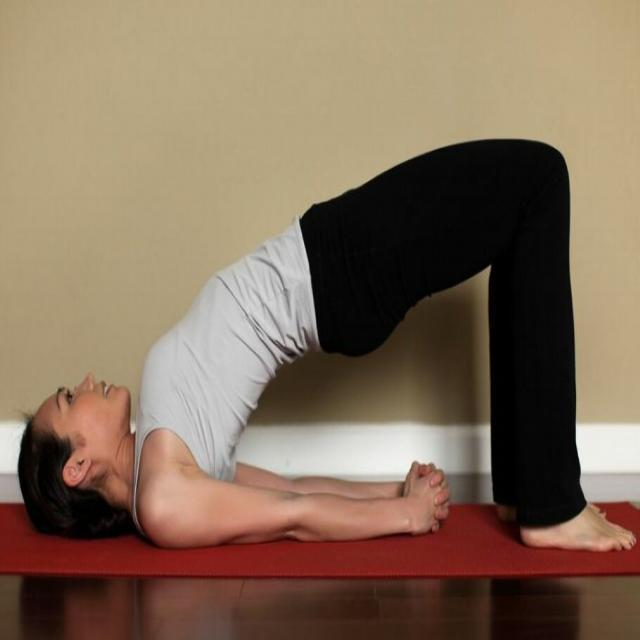yoga-pose bridge: (16, 134, 632, 557)
